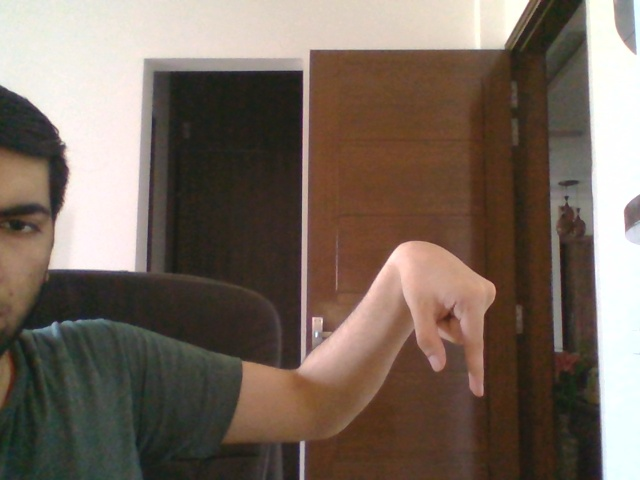LetterQ: (392, 237, 497, 403)
